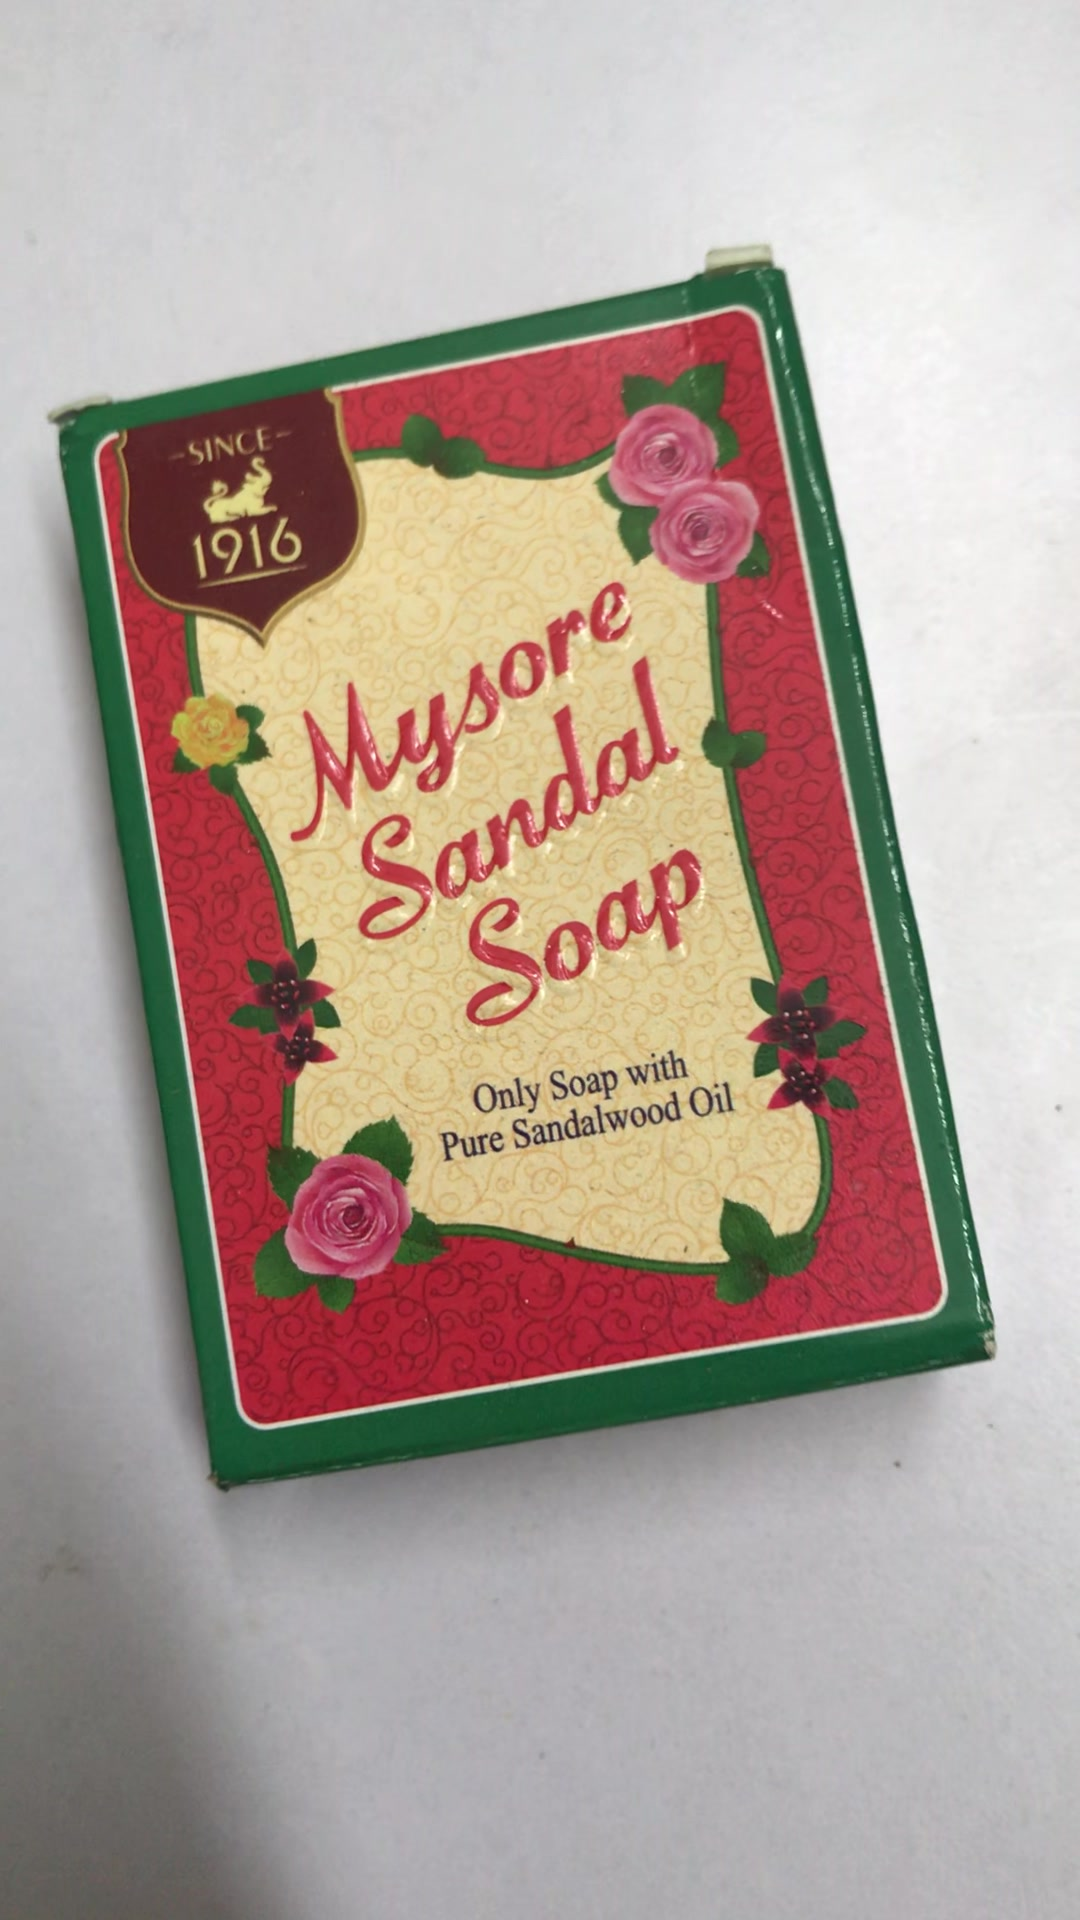mysore sandal soap: (59, 265, 997, 1487)
